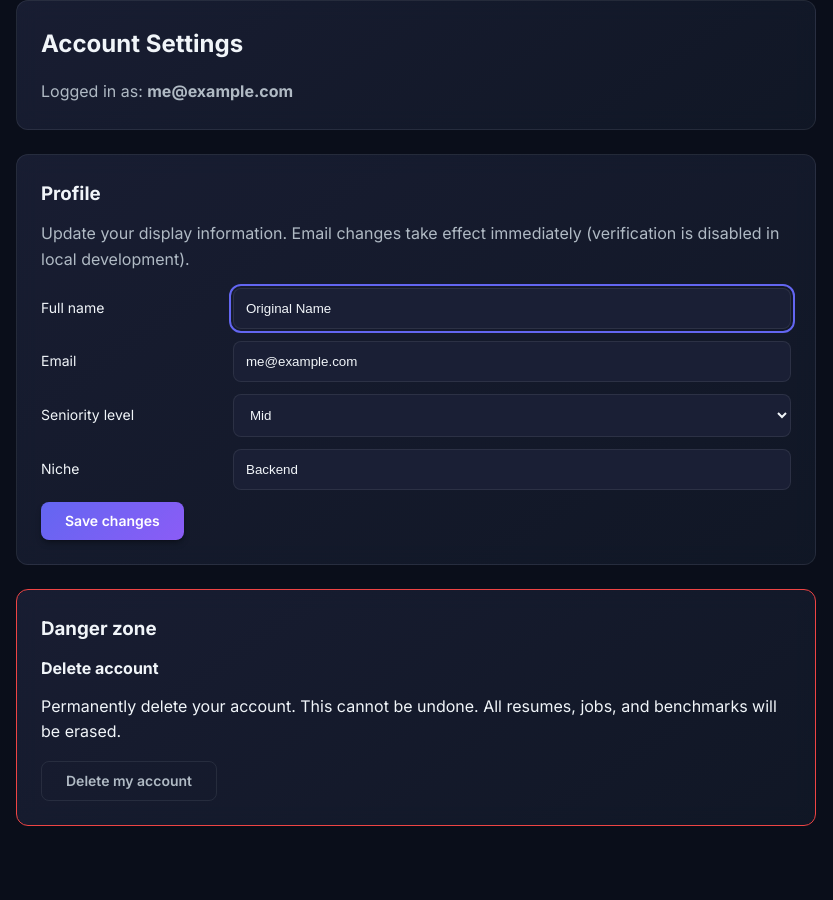
Test: Settings page — profile form › shows an error message when the server returns 409
Step 1. Replace the text in the field labelled "Email" with "taken@example.com" → (512,362), box [233,341,791,382]
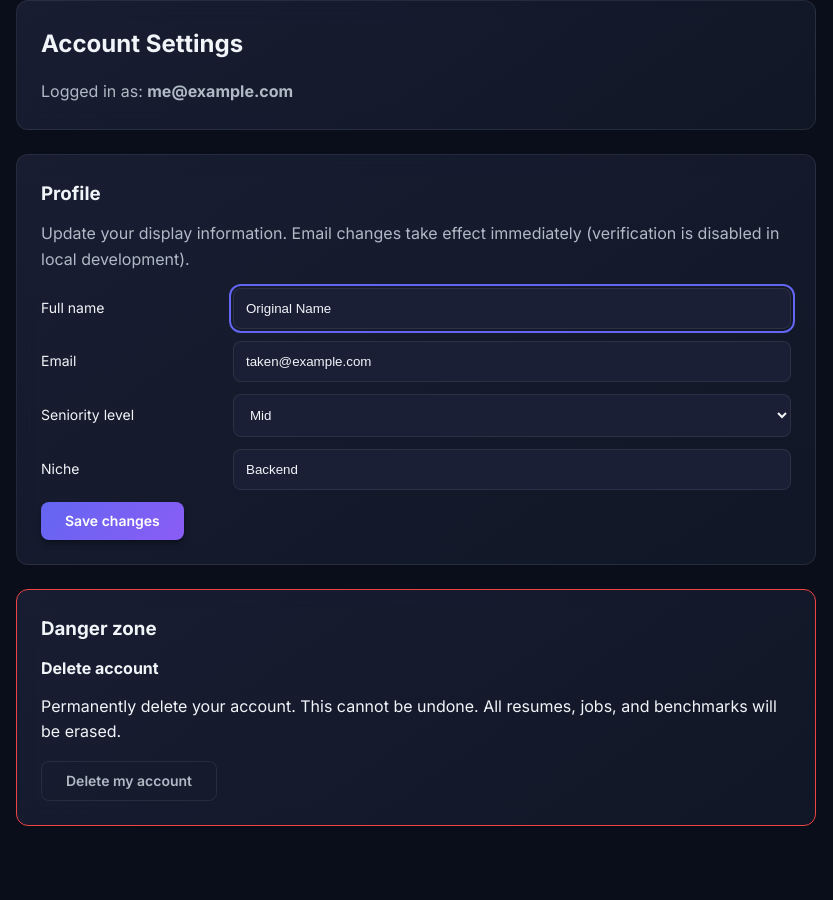
Step 2. Click the button "Save changes" → (112,521), box [41,502,184,540]
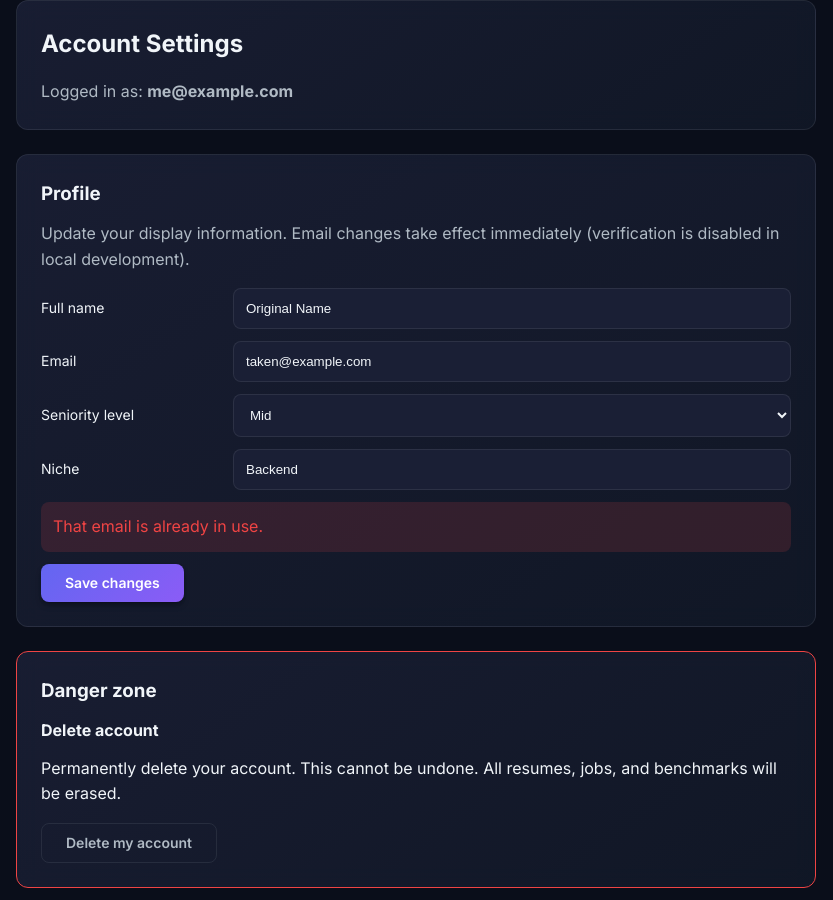
Expected: the message shows "That email is already in use", [53,516,263,536]
